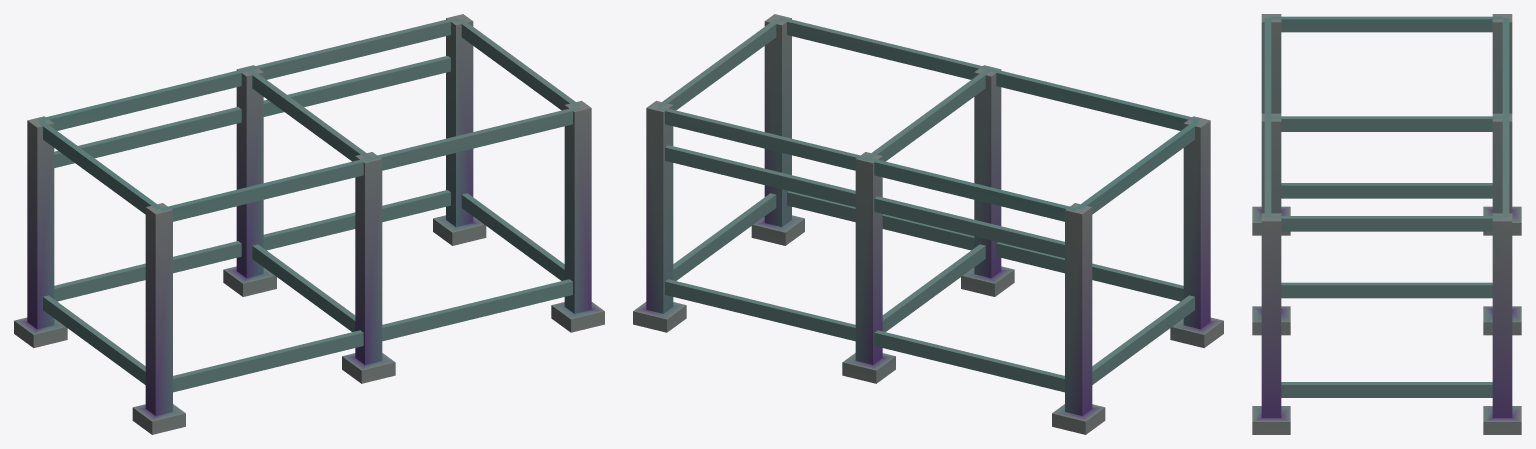
3 views of the same model, side by side, from view 1: azimuth 30°, elevation 25°; view 2: azimuth 150°, elevation 25°; view 3: azimuth 270°, elevation 25° (orthographic). The views are drawn at different scales.
Visible parts, largest first — view 1: foot, long_rail.002, long_rail.003, long_rail, foot.002, foot.004, foot.001, extra_rail, foot.003, foot.005, long_rail.001, cross_rail.005 (+5 smaller); view 2: foot.001, long_rail.003, long_rail.002, extra_rail, long_rail.001, foot.005, foot.003, foot, foot.004, foot.002, long_rail, cross_rail.005 (+5 smaller); view 3: foot.002, foot.003, cross_rail.003, cross_rail.001, cross_rail.004, cross_rail.005, cross_rail, cross_rail.002, foot.004, foot.005, foot, foot.001 (+2 smaller).
Boxes of the visible parts, x1,y1,x2,y2 form: foot: [132, 203, 185, 434]; long_rail.002: [160, 106, 580, 221]; long_rail.003: [38, 17, 458, 130]; long_rail: [173, 279, 572, 392]; foot.002: [551, 100, 604, 332]; foot.004: [342, 152, 395, 383]; foot.001: [14, 116, 67, 347]; extra_rail: [54, 56, 450, 167]; foot.003: [433, 14, 486, 245]; foot.005: [223, 65, 276, 296]; long_rail.001: [54, 190, 450, 301]; cross_rail.005: [457, 19, 580, 110]; foot.001: [1052, 203, 1105, 434]; long_rail.003: [657, 106, 1077, 221]; long_rail.002: [779, 17, 1199, 130]; extra_rail: [665, 145, 1064, 258]; long_rail.001: [665, 279, 1064, 392]; foot.005: [842, 152, 895, 383]; foot.003: [633, 100, 686, 332]; foot: [1170, 116, 1223, 347]; foot.004: [961, 65, 1014, 296]; foot.002: [751, 14, 804, 245]; long_rail: [787, 191, 1183, 301]; cross_rail.005: [657, 19, 780, 110]; foot.002: [1252, 213, 1290, 434]; foot.003: [1483, 213, 1521, 434]; cross_rail.003: [1271, 16, 1502, 32]; cross_rail.001: [1281, 282, 1492, 298]; cross_rail.004: [1271, 116, 1502, 131]; cross_rail.005: [1271, 216, 1502, 231]; cross_rail: [1281, 183, 1492, 198]; cross_rail.002: [1281, 382, 1492, 397]; foot.004: [1252, 113, 1290, 335]; foot.005: [1483, 113, 1521, 335]; foot: [1252, 14, 1290, 235]; foot.001: [1483, 14, 1521, 235].
Bounding box in the file's own units: 1 × 0.4539 × 0.5283.
